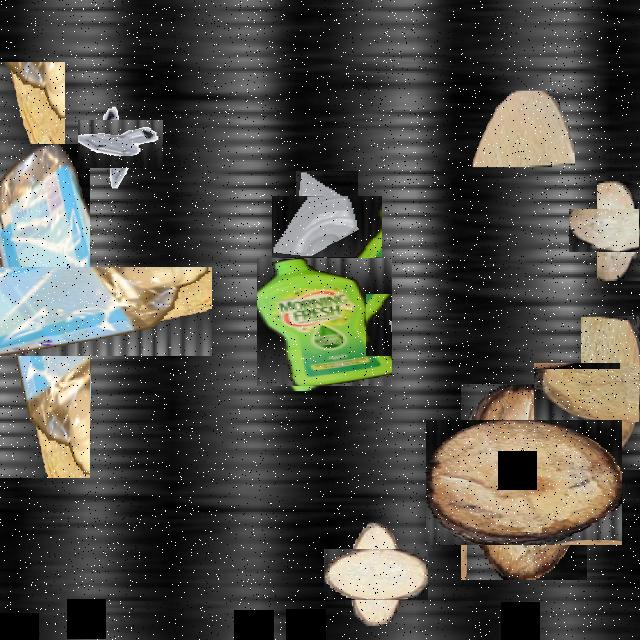glass: (284, 183, 370, 269)
metal: (86, 111, 154, 177)
plastic: (0, 205, 151, 417), (258, 256, 390, 388)
wood: (443, 402, 604, 562), (0, 62, 65, 204), (557, 339, 640, 446), (472, 91, 574, 165), (337, 535, 415, 613), (582, 195, 640, 266)
